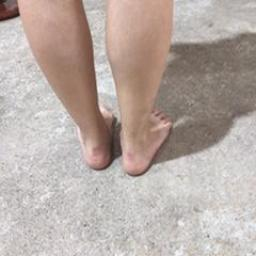Back View -Both Feet-: (52, 96, 189, 186)
